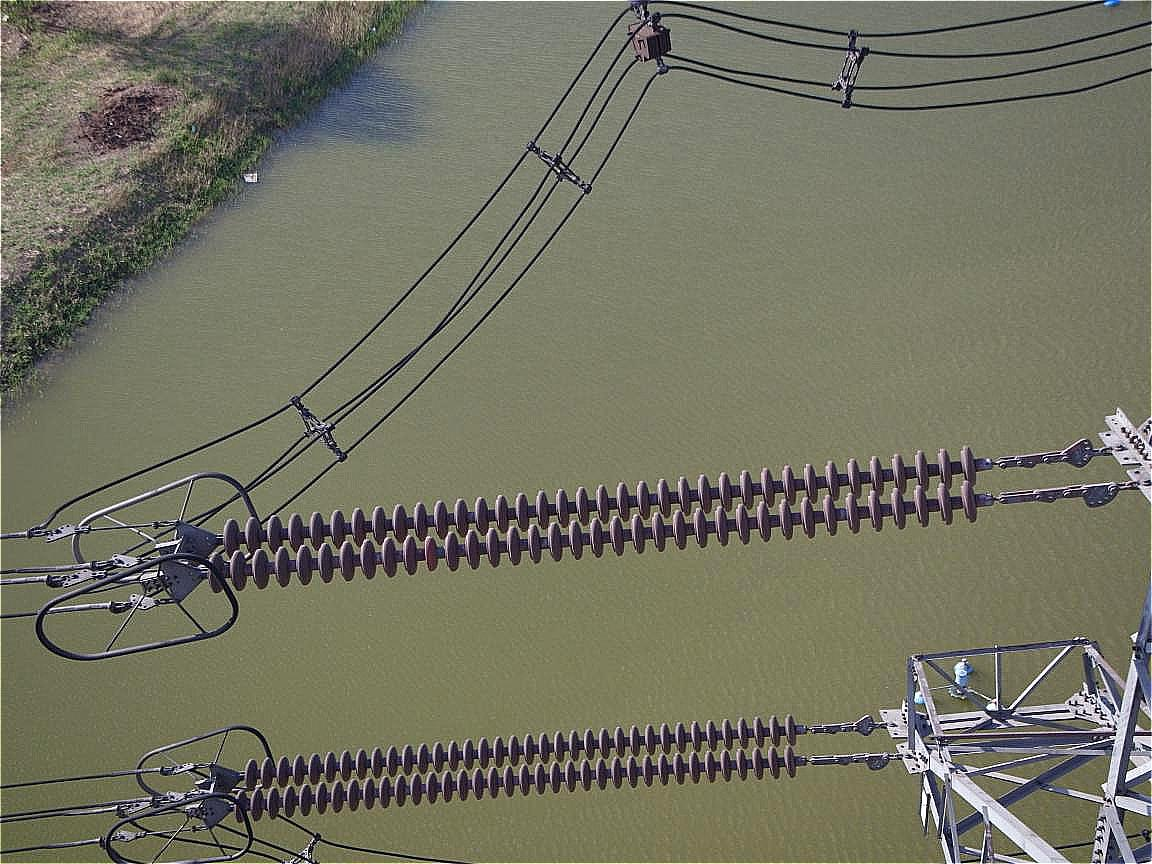insultor1: (195, 447, 974, 609), (221, 707, 812, 825)
